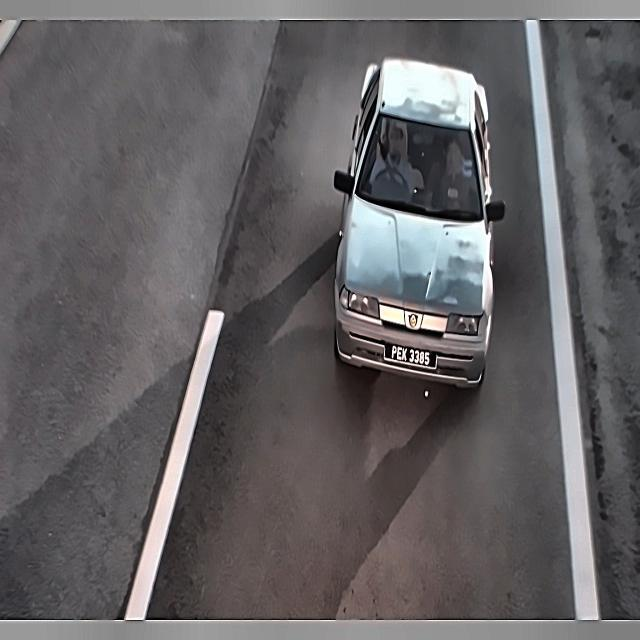car: (381, 331, 438, 376)
